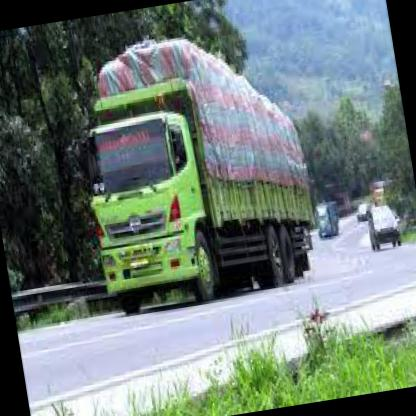truck: (78, 102, 221, 322)
